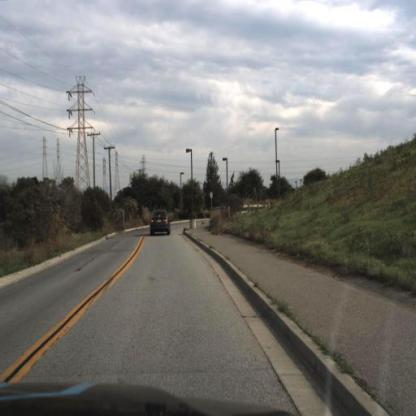car: (150, 212, 173, 237)
